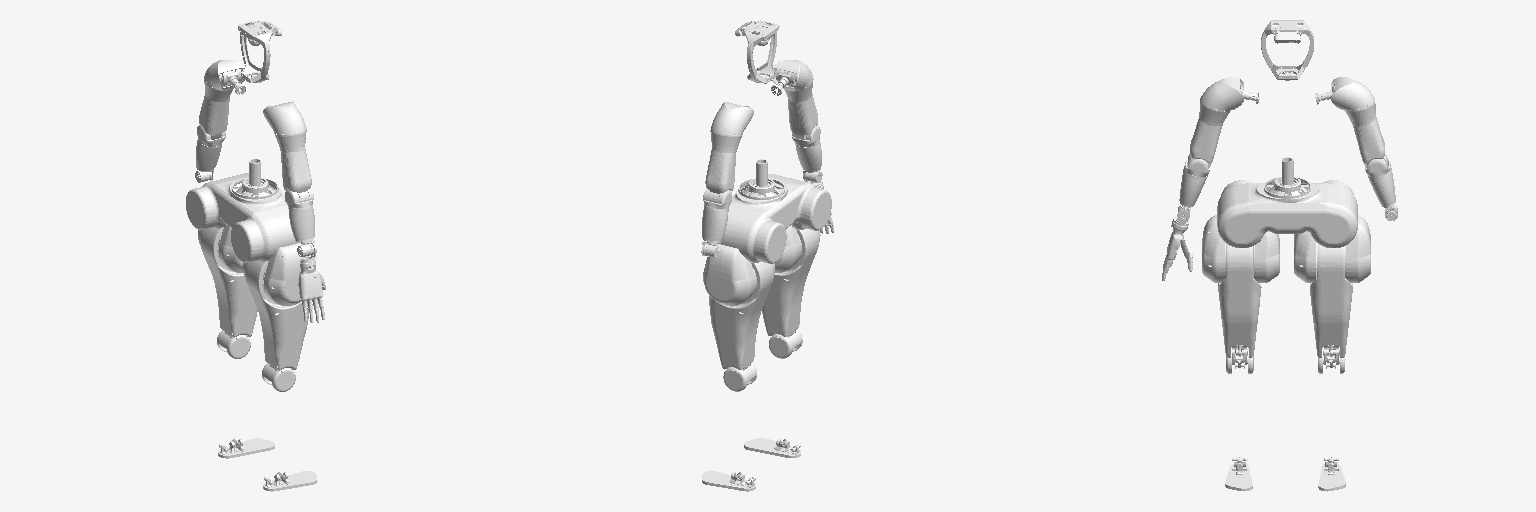
--- Facts derived from the render (not from the file) ---
Views: 3 orthographic renders of the robot side by side, from view 1: azimuth 30°, elevation 25°; view 2: azimuth 150°, elevation 25°; view 3: azimuth 270°, elevation 25°.
Robot: humanoid_legged_description — 32 links, 31 joints (12 revolute, 1 continuous, 18 fixed); root link dummy_link; default pose: all joints at 0.
Visible links, largest first — view 1: waist_yaw_link, leg_r3_link, leg_l3_link, leg_r2_link, arm_r2_link, head_yaw_link, arm_r6_link, arm_r3_link, arm_r5_link, arm_l2_link, arm_l3_link, arm_l5_link (+3 smaller); view 2: waist_yaw_link, leg_l3_link, leg_r3_link, leg_l2_link, arm_l2_link, head_yaw_link, arm_l3_link, arm_l5_link, arm_r2_link, arm_r3_link, arm_r5_link, leg_l6_link (+2 smaller); view 3: waist_yaw_link, leg_r3_link, leg_l3_link, leg_r2_link, leg_l2_link, head_yaw_link, arm_l2_link, arm_r2_link, arm_l3_link, arm_r3_link, arm_r6_link, arm_l5_link (+3 smaller).
Link boxes in pixels (x1=…): waist_yaw_link: x1=186, y1=159, x2=307, y2=262; leg_r3_link: x1=245, y1=261, x2=308, y2=391; leg_l3_link: x1=200, y1=227, x2=257, y2=358; leg_r2_link: x1=243, y1=243, x2=308, y2=305; arm_r2_link: x1=263, y1=101, x2=306, y2=152; head_yaw_link: x1=238, y1=21, x2=282, y2=82; arm_r6_link: x1=298, y1=244, x2=325, y2=322; arm_r3_link: x1=281, y1=149, x2=311, y2=202; arm_r5_link: x1=288, y1=204, x2=315, y2=257; arm_l2_link: x1=204, y1=60, x2=244, y2=101; arm_l3_link: x1=199, y1=94, x2=229, y2=139; arm_l5_link: x1=195, y1=140, x2=221, y2=182; waist_yaw_link: x1=709, y1=159, x2=831, y2=263; leg_l3_link: x1=709, y1=262, x2=773, y2=391; leg_r3_link: x1=762, y1=229, x2=818, y2=358; leg_l2_link: x1=703, y1=244, x2=774, y2=306; arm_l2_link: x1=710, y1=102, x2=753, y2=153; head_yaw_link: x1=735, y1=20, x2=779, y2=83; arm_l3_link: x1=705, y1=149, x2=735, y2=202; arm_l5_link: x1=701, y1=205, x2=728, y2=257; arm_r2_link: x1=772, y1=60, x2=813, y2=102; arm_r3_link: x1=788, y1=94, x2=817, y2=139; arm_r5_link: x1=795, y1=139, x2=822, y2=182; leg_l6_link: x1=702, y1=471, x2=755, y2=491; waist_yaw_link: x1=1217, y1=157, x2=1357, y2=247; leg_r3_link: x1=1218, y1=243, x2=1261, y2=373; leg_l3_link: x1=1310, y1=243, x2=1352, y2=373; leg_r2_link: x1=1202, y1=215, x2=1279, y2=282; leg_l2_link: x1=1294, y1=215, x2=1370, y2=282; head_yaw_link: x1=1261, y1=20, x2=1313, y2=80; arm_l2_link: x1=1331, y1=77, x2=1375, y2=125; arm_r2_link: x1=1199, y1=77, x2=1243, y2=126; arm_l3_link: x1=1353, y1=117, x2=1387, y2=167; arm_r3_link: x1=1188, y1=119, x2=1222, y2=167; arm_r6_link: x1=1162, y1=210, x2=1192, y2=280; arm_l5_link: x1=1368, y1=168, x2=1397, y2=220.
Size in the robot's own frame: 0.2929 by 0.7731 by 1.62 metres.
23 mesh visuals loaded from 27 distinct referenced files (23 binary STL); not drawn: 4 (reference not matched to a file when rendering).

The robot description file, URDF, robot "humanoid_legged_description":
<?xml version="1.0" encoding="utf-8"?>
<!-- This URDF was automatically created by SolidWorks to URDF Exporter! Originally created by Stephen Brawner ([email redacted]) 
     Commit Version: 1.6.0-4-g7f85cfe  Build Version: 1.6.7995.38578
     For more information, please see http://wiki.ros.org/sw_urdf_exporter -->
<robot
  name="humanoid_legged_description">
<mujoco>
      <compiler 
      meshdir="../meshes/" 
      balanceinertia="true" 
      discardvisual="false" />
  </mujoco>
  <link name="dummy_link">
    </link>
  <link
    name="base_link">
    <inertial>
      <origin
        xyz="0.001826 0.000075 -0.034596"
        rpy="0 0 0" />
      <mass
        value="11.000" />
      <inertia
        ixx="0.078100"
        ixy="-0.000010"
        ixz="0.000023"
        iyy="0.060343"
        iyz="0.000086"
        izz="0.041741" />
    </inertial>
    <visual>
      <origin
        xyz="0 0 0"
        rpy="0 0 0" />
      <geometry>
        <mesh
          filename="../meshes/base_link.STL" />
      </geometry>
      <material
        name="">
        <color
          rgba="1 1 1 1" />
      </material>
    </visual>
    <collision>
      <origin
        xyz="0 0. -0.1"
        rpy="0 0 0" />
      <geometry>
        <box size="0.2 0.3 0.3"/>
      </geometry>
    </collision>
  </link>
  <joint name="dummy_to_base_link" type="continuous">
    <parent link="dummy_link"/>
    <child link="base_link"/>
    <origin rpy="0 0 0" xyz="0 0 0"/>
  </joint>
  <link
    name="head_yaw_link">
    <inertial>
      <origin
        xyz="0.003429 -0.000100 0.134116"
        rpy="0 0 0" />
      <mass
        value="0.496681" />
      <inertia
        ixx="0.002367"
        ixy="0.000000"
        ixz="-0.000062"
        iyy="0.001968"
        iyz="0.000001"
        izz="0.000888" />
    </inertial>
    <visual>
      <origin
        xyz="0 0 0"
        rpy="0 0 0" />
      <geometry>
        <mesh
          filename="../meshes/head_yaw_link.STL" />
      </geometry>
      <material
        name="">
        <color
          rgba="1 1 1 1" />
      </material>
    </visual>
    <collision>
      <origin
        xyz="0 0. 0.1"
        rpy="0 0 0" />
      <geometry>
        <box size="0.1 0.2 0.2"/>
      </geometry>
    </collision>
  </link>
  <joint
    name="head_yaw_joint"
    type="fixed">
    <origin
      xyz="0 0 0.1395"
      rpy="0 0 0" />
    <parent
      link="base_link" />
    <child
      link="head_yaw_link" />
    <axis
      xyz="0 0 -1" />
    <limit
      lower="-1.5708"
      upper="1.5708"
      effort="9.0"
      velocity="12.0"/>
  </joint>
  <link
    name="waist_yaw_link">
    <inertial>
      <origin
        xyz="-0.036011 0.000003 -0.097626"
        rpy="0 0 0" />
      <mass
        value="8.000000" />
      <inertia
        ixx="0.112394"
        ixy="0.000005"
        ixz="-0.009290"
        iyy="0.042706"
        iyz="0.000000"
        izz="0.124727" />
    </inertial>
    <visual>
      <origin
        xyz="0 0 0"
        rpy="0 0 0" />
      <geometry>
        <mesh
          filename="../meshes/waist_yaw_link.STL" />
      </geometry>
      <material
        name="">
        <color
          rgba="1 1 1 1" />
      </material>
    </visual>
    <collision>
      <origin
        xyz="0 0. -0.115"
        rpy="0 0 0" />
      <geometry>
        <box size="0.2 0.39 0.1"/>
      </geometry>
    </collision>
  </link>
  <joint
    name="waist_yaw_joint"
    type="fixed">
    <origin
      xyz="0 0 -0.24015"
      rpy="0 0 0" />
    <parent
      link="base_link" />
    <child
      link="waist_yaw_link" />
    <axis
      xyz="0 0 1" />
    <limit
      lower="-1.5708"
      upper="1.5708"
      effort="150.0"
      velocity="12.0"/>
  </joint>
  <link
    name="leg_l1_link">
    <inertial>
      <origin
        xyz="-0.010461 0.000002 0.070710"
        rpy="0 0 0" />
      <mass
        value="1.900000" />
      <inertia
        ixx="0.002511"
        ixy="0.000000"
        ixz="0.000021"
        iyy="0.002615"
        iyz="0.000000"
        izz="0.001968" />
    </inertial>
    <visual>
      <origin
        xyz="0 0 0"
        rpy="0 0 0" />
      <geometry>
        <mesh
          filename="../meshes/leg_l1_link.STL" />
      </geometry>
      <material
        name="">
        <color
          rgba="1 1 1 1" />
      </material>
    </visual>
  </link>
  <joint
    name="leg_l1_joint"
    type="revolute">
    <origin
      xyz="-0.0718 0.14977 -0.12986"
      rpy="0 1.5708 0" />
    <parent
      link="waist_yaw_link" />
    <child
      link="leg_l1_link" />
    <axis
      xyz="0 0 1" />
    <limit
      lower="-0.2"
      upper="1.5708"
      effort="150.0"
      velocity="12.0"/>
  </joint>
  <link
    name="leg_l2_link">
    <inertial>
      <origin
        xyz="0.000523 -0.004435 -0.088977"
        rpy="0 0 0" />
      <mass
        value="1.529802" />
      <inertia
        ixx="0.014665"
        ixy="-0.000011"
        ixz="0.000049"
        iyy="0.007424"
        iyz="-0.000164"
        izz="0.010492" />
    </inertial>
    <visual>
      <origin
        xyz="0 0 0"
        rpy="0 0 0" />
      <geometry>
        <mesh
          filename="../meshes/leg_l2_link.STL" />
      </geometry>
      <material
        name="">
        <color
          rgba="1 1 1 1" />
      </material>
    </visual>
    <collision>
      <origin
        xyz="0 -0.0 -0.17"
        rpy="1.5708 0 0" />
      <geometry>
        <cylinder length="0.24" radius="0.08"/>
      </geometry>
    </collision>
  </link>
  <joint
    name="leg_l2_joint"
    type="revolute">
    <origin
      xyz="-0.028 0 0.0718"
      rpy="0 -1.5708 0" />
    <parent
      link="leg_l1_link" />
    <child
      link="leg_l2_link" />
    <axis
      xyz="0 0 -1" />
    <limit
      lower="-1.5708"
      upper="1.5708"
      effort="90.0"
      velocity="12.0"/>
  </joint>
  <link
    name="leg_l3_link">
    <inertial>
      <origin
        xyz="0.007346 -0.088900 0.080842"
        rpy="0 0 0" />
      <mass
        value="10.000000" />
      <inertia
        ixx="0.108180"
        ixy="0.003872"
        ixz="-0.000337"
        iyy="0.025767"
        iyz="0.004059"
        izz="0.105844" />
    </inertial>
    <visual>
      <origin
        xyz="0 0 0"
        rpy="0 0 0" />
      <geometry>
        <mesh
          filename="../meshes/leg_l3_link.STL" />
      </geometry>
      <material
        name="">
        <color
          rgba="1 1 1 1" />
      </material>
    </visual>
    <collision>
      <origin
        xyz="0.01 -0.2 0.09"
        rpy="0 0 0" />
      <geometry>
        <box size="0.1 0.2 0.1"/>
      </geometry>
    </collision>
  </link>
  <joint
    name="leg_l3_joint"
    type="revolute">
    <origin
      xyz="0 0.0823 -0.165"
      rpy="1.5708 0 0" />
    <parent
      link="leg_l2_link" />
    <child
      link="leg_l3_link" />
    <axis
      xyz="0 0 1" />
    <limit
      lower="-1.5708"
      upper="1.5708"
      effort="320.0"
      velocity="12.0"/>
  </joint>
  <link
    name="leg_l4_link">
    <inertial>
      <origin
        xyz="0.011156 -0.159931 0.014599"
        rpy="0 0 0" />
      <mass
        value="2.600000" />
      <inertia
        ixx="0.023687"
        ixy="-0.000544"
        ixz="0.000006"
        iyy="0.002330"
        iyz="0.000202"
        izz="0.023761" />
    </inertial>
    <visual>
      <origin
        xyz="0 0 0"
        rpy="0 0 0" />
      <geometry>
        <mesh
          filename="../meshes/leg_l4_link.STL" />
      </geometry>
      <material
        name="">
        <color
          rgba="1 1 1 1" />
      </material>
    </visual>
    <collision>
      <origin
        xyz="0 0 0.015"
        rpy="0 0 0" />
      <geometry>
        <cylinder length="0.09" radius="0.04"/>
      </geometry>
    </collision>
    <collision>
      <origin
        xyz="0.01 -0.185 0.01"
        rpy="0 0 0" />
      <geometry>
        <box size="0.1 0.28 0.08"/>
      </geometry>
    </collision>
  </link>
  <joint
    name="leg_l4_joint"
    type="revolute">
    <origin
      xyz="0 -0.38 0.0748"
      rpy="0 0 0" />
    <parent
      link="leg_l3_link" />
    <child
      link="leg_l4_link" />
    <axis
      xyz="0 0 -1" />
    <limit
      lower="0.0"
      upper="2.356"
      effort="320.0"
      velocity="12.0"/>
  </joint>
  <link
    name="leg_l5_link">
    <inertial>
      <origin
        xyz="0.000000 0.000000 0.011000"
        rpy="0 0 0" />
      <mass
        value="0.050922" />
      <inertia
        ixx="0.000006"
        ixy="0.000000"
        ixz="0.000000"
        iyy="0.000011"
        iyz="0.000000"
        izz="0.000006" />
    </inertial>
    <visual>
      <origin
        xyz="0 0 0"
        rpy="0 0 0" />
      <geometry>
        <mesh
          filename="../meshes/leg_l5_link.STL" />
      </geometry>
      <material
        name="">
        <color
          rgba="0.776470588235294 0.756862745098039 0.737254901960784 1" />
      </material>
    </visual>
  </link>
  <joint
    name="leg_l5_joint"
    type="revolute">
    <origin
      xyz="0.0098491 -0.37124 0.0035"
      rpy="0 0 0" />
    <parent
      link="leg_l4_link" />
    <child
      link="leg_l5_link" />
    <axis
      xyz="0 0 1" />
    <limit
      lower="-0.8"
      upper="0.8"
      effort="70.0"
      velocity="12.0"/>
  </joint>
  <link
    name="leg_l6_link">
    <inertial>
      <origin
        xyz="0.000593 -0.022279 0.030136"
        rpy="0 0 0" />
      <mass
        value="0.365700" />
      <inertia
        ixx="0.001040"
        ixy="0.000001"
        ixz="0.000004"
        iyy="0.001143"
        iyz="0.000054"
        izz="0.000169" />
    </inertial>
    <visual>
      <origin
        xyz="0 0 0"
        rpy="0 0 0" />
      <geometry>
        <mesh
          filename="../meshes/leg_l6_link.STL" />
      </geometry>
      <material
        name="">
        <color
          rgba="1 1 1 1" />
      </material>
    </visual>
    <collision>
      <origin
        xyz="0.0 -0.028 0.05"
        rpy="0 0 0" />
      <geometry>
        <box size="0.1 0.01 0.2"/>
      </geometry>
    </collision>
  </link>
  <joint
    name="leg_l6_joint"
    type="revolute">
    <origin
      xyz="-0.011 0 0.011"
      rpy="0 1.5708 0" />
    <parent
      link="leg_l5_link" />
    <child
      link="leg_l6_link" />
    <axis
      xyz="0 0 1" />
    <limit
      lower="-0.5236"
      upper="0.5236"
      effort="70.0"
      velocity="12.0"/>
  </joint>
  <link
    name="l_foot_toe">
  </link>
  <joint
    name="l_foot_toe_joint"
    type="fixed">
    <origin
      xyz="0 -0.033 0.1415"
      rpy="0 0 0" />
    <parent
      link="leg_l6_link" />
    <child
      link="l_foot_toe" />
  </joint>
  <link
    name="l_foot_heel">
  </link>
  <joint
    name="l_foot_heel_joint"
    type="fixed">
    <origin
      xyz="0 -0.033 -0.0445"
      rpy="0 0 0" />
    <parent
      link="leg_l6_link" />
    <child
      link="l_foot_heel" />
  </joint>
  <link
    name="leg_r1_link">
    <inertial>
      <origin
        xyz="-0.010461 0.000002 0.070710"
        rpy="0 0 0" />
      <mass
        value="1.900000" />
      <inertia
        ixx="0.002511"
        ixy="0.000000"
        ixz="0.000021"
        iyy="0.002615"
        iyz="0.000000"
        izz="0.001968" />
    </inertial>
    <visual>
      <origin
        xyz="0 0 0"
        rpy="0 0 0" />
      <geometry>
        <mesh
          filename="../meshes/leg_r1_link.STL" />
      </geometry>
      <material
        name="">
        <color
          rgba="1 1 1 1" />
      </material>
    </visual>
  </link>
  <joint
    name="leg_r1_joint"
    type="revolute">
    <origin
      xyz="-0.0718 -0.14977 -0.12986"
      rpy="0 1.5708 0" />
    <parent
      link="waist_yaw_link" />
    <child
      link="leg_r1_link" />
    <axis
      xyz="0 0 1" />
    <limit
      lower="-1.5708"
      upper="0.2"
      effort="150.0"
      velocity="12.0"/>
  </joint>
  <link
    name="leg_r2_link">
    <inertial>
      <origin
        xyz="0.000523 -0.004435 -0.088977"
        rpy="0 0 0" />
      <mass
        value="1.529802" />
      <inertia
        ixx="0.014665"
        ixy="-0.000011"
        ixz="0.000049"
        iyy="0.007424"
        iyz="-0.000164"
        izz="0.010492" />
    </inertial>
    <visual>
      <origin
        xyz="0 0 0"
        rpy="0 0 0" />
      <geometry>
        <mesh
          filename="../meshes/leg_r2_link.STL" />
      </geometry>
      <material
        name="">
        <color
          rgba="1 1 1 1" />
      </material>
    </visual>
    <collision>
      <origin
        xyz="0 -0.0 -0.17"
        rpy="1.5708 0 0" />
      <geometry>
        <cylinder length="0.24" radius="0.08"/>
      </geometry>
    </collision>
  </link>
  <joint
    name="leg_r2_joint"
    type="revolute">
    <origin
      xyz="-0.028 0 0.0718"
      rpy="0 -1.5708 0" />
    <parent
      link="leg_r1_link" />
    <child
      link="leg_r2_link" />
    <axis
      xyz="0 0 -1" />
    <limit
      lower="-1.5708"
      upper="1.5708"
      effort="90.0"
      velocity="12.0"/>
  </joint>
  <link
    name="leg_r3_link">
    <inertial>
      <origin
        xyz="0.007346 -0.088900 0.080842"
        rpy="0 0 0" />
      <mass
        value="10.000000" />
      <inertia
        ixx="0.108180"
        ixy="0.003872"
        ixz="-0.000337"
        iyy="0.025767"
        iyz="0.004059"
        izz="0.105844" />
    </inertial>
    <visual>
      <origin
        xyz="0 0 0"
        rpy="0 0 0" />
      <geometry>
        <mesh
          filename="../meshes/leg_r3_link.STL" />
      </geometry>
      <material
        name="">
        <color
          rgba="1 1 1 1" />
      </material>
    </visual>
    <collision>
      <origin
        xyz="0.01 -0.2 0.09"
        rpy="0 0 0" />
      <geometry>
        <box size="0.1 0.2 0.1"/>
      </geometry>
    </collision>
  </link>
  <joint
    name="leg_r3_joint"
    type="revolute">
    <origin
      xyz="0 0.0823 -0.165"
      rpy="1.5708 0 0" />
    <parent
      link="leg_r2_link" />
    <child
      link="leg_r3_link" />
    <axis
      xyz="0 0 1" />
    <limit
      lower="-1.5708"
      upper="1.5708"
      effort="320.0"
      velocity="12.0"/>
  </joint>
  <link
    name="leg_r4_link">
    <inertial>
      <origin
        xyz="0.011156 -0.159931 0.014599"
        rpy="0 0 0" />
      <mass
        value="2.600000" />
      <inertia
        ixx="0.023687"
        ixy="-0.000544"
        ixz="0.000006"
        iyy="0.002330"
        iyz="0.000202"
        izz="0.023761" />
    </inertial>
    <visual>
      <origin
        xyz="0 0 0"
        rpy="0 0 0" />
      <geometry>
        <mesh
          filename="../meshes/leg_r4_link.STL" />
      </geometry>
      <material
        name="">
        <color
          rgba="1 1 1 1" />
      </material>
    </visual>
    <collision>
      <origin
        xyz="0 0 0.015"
        rpy="0 0 0" />
      <geometry>
        <cylinder length="0.09" radius="0.04"/>
      </geometry>
    </collision>
    <collision>
      <origin
        xyz="0.01 -0.185 0.01"
        rpy="0 0 0" />
      <geometry>
        <box size="0.1 0.28 0.08"/>
      </geometry>
    </collision>
  </link>
  <joint
    name="leg_r4_joint"
    type="revolute">
    <origin
      xyz="0 -0.38 0.0748"
      rpy="0 0 0" />
    <parent
      link="leg_r3_link" />
    <child
      link="leg_r4_link" />
    <axis
      xyz="0 0 -1" />
    <limit
      lower="0.0"
      upper="2.356"
      effort="320.0"
      velocity="12.0"/>
  </joint>
  <link
    name="leg_r5_link">
    <inertial>
      <origin
        xyz="0.000000 0.000000 0.011000"
        rpy="0 0 0" />
      <mass
        value="0.050922" />
      <inertia
        ixx="0.000006"
        ixy="0.000000"
        ixz="0.000000"
        iyy="0.000011"
        iyz="0.000000"
        izz="0.000006" />
    </inertial>
    <visual>
      <origin
        xyz="0 0 0"
        rpy="0 0 0" />
      <geometry>
        <mesh
          filename="../meshes/leg_r5_link.STL" />
      </geometry>
      <material
        name="">
        <color
          rgba="0.776470588235294 0.756862745098039 0.737254901960784 1" />
      </material>
    </visual>
  </link>
  <joint
    name="leg_r5_joint"
    type="revolute">
    <origin
      xyz="0.0098491 -0.37124 0.0035"
      rpy="0 0 0" />
    <parent
      link="leg_r4_link" />
    <child
      link="leg_r5_link" />
    <axis
      xyz="0 0 1" />
    <limit
      lower="-0.8"
      upper="0.8"
      effort="70.0"
      velocity="12.0"/>
  </joint>
  <link
    name="leg_r6_link">
    <inertial>
      <origin
        xyz="-0.000603 -0.022372 0.031400"
        rpy="0 0 0" />
      <mass
        value="0.373459" />
      <inertia
        ixx="0.001074"
        ixy="-0.000001"
        ixz="-0.000005"
        iyy="0.001179"
        iyz="0.000056"
        izz="0.000173" />
    </inertial>
    <visual>
      <origin
        xyz="0 0 0"
        rpy="0 0 0" />
      <geometry>
        <mesh
          filename="../meshes/leg_r6_link.STL" />
      </geometry>
      <material
        name="">
        <color
          rgba="1 1 1 1" />
      </material>
    </visual>
    <collision>
      <origin
        xyz="0.0 -0.028 0.05"
        rpy="0 0 0" />
      <geometry>
        <box size="0.1 0.01 0.2"/>
      </geometry>
    </collision>
  </link>
  <joint
    name="leg_r6_joint"
    type="revolute">
    <origin
      xyz="-0.011 0 0.011"
      rpy="0 1.5708 0" />
    <parent
      link="leg_r5_link" />
    <child
      link="leg_r6_link" />
    <axis
      xyz="0 0 1" />
    <limit
      lower="-0.5236"
      upper="0.5236"
      effort="70.0"
      velocity="12.0"/>
  </joint>
  <link
    name="r_foot_toe">
  </link>
  <joint
    name="r_foot_toe_joint"
    type="fixed">
    <origin
      xyz="0 -0.033 0.1415"
      rpy="0 0 0" />
    <parent
      link="leg_r6_link" />
    <child
      link="r_foot_toe" />
  </joint>
  <link
    name="r_foot_heel">
  </link>
  <joint
    name="r_foot_heel_joint"
    type="fixed">
    <origin
      xyz="0 -0.033 -0.0445"
      rpy="0 0 0" />
    <parent
      link="leg_r6_link" />
    <child
      link="r_foot_heel" />
  </joint>
  <link
    name="arm_l1_link">
    <inertial>
      <origin
        xyz="0.005516 -0.000005 -0.082177"
        rpy="0 0 0" />
      <mass
        value="0.565198" />
      <inertia
        ixx="0.000328"
        ixy="0.000000"
        ixz="0.000023"
        iyy="0.000409"
        iyz="0.000000"
        izz="0.000195" />
    </inertial>
    <visual>
      <origin
        xyz="0 0 0"
        rpy="0 0 0" />
      <geometry>
        <mesh
          filename="../meshes/arm_l1_link.STL" />
      </geometry>
      <material
        name="">
        <color
          rgba="1 1 1 1" />
      </material>
    </visual>
  </link>
  <joint
    name="arm_l1_joint"
    type="fixed">
    <origin
      xyz="0 0.095627 0.05921"
      rpy="1.8326 0 0" />
    <parent
      link="base_link" />
    <child
      link="arm_l1_link" />
    <axis
      xyz="0 0 1" />
    <limit
      lower="-3.1416"
      upper="3.1416"
      effort="36.0"
      velocity="12.0"/>
  </joint>
  <link
    name="arm_l2_link">
    <inertial>
      <origin
        xyz="0.047703 -0.049028 -0.033173"
        rpy="0 0 0" />
      <mass
        value="0.850000" />
      <inertia
        ixx="0.001324"
        ixy="0.000456"
        ixz="0.000111"
        iyy="0.001035"
        iyz="-0.000114"
        izz="0.001518" />
    </inertial>
    <visual>
      <origin
        xyz="0 0 0"
        rpy="0 0 0" />
      <geometry>
        <mesh
          filename="../meshes/arm_l2_link.STL" />
      </geometry>
      <material
        name="">
        <color
          rgba="1 1 1 1" />
      </material>
    </visual>
  </link>
  <joint
    name="arm_l2_joint"
    type="fixed">
    <origin
      xyz="0.036 0 -0.0895"
      rpy="-1.5708 1.309 -1.5708" />
    <parent
      link="arm_l1_link" />
    <child
      link="arm_l2_link" />
    <axis
      xyz="0 0 1" />
    <limit
      lower="-0.4"
      upper="1.5708"
      effort="36.0"
      velocity="12.0"/>
  </joint>
  <link
    name="arm_l3_link">
    <inertial>
      <origin
        xyz="-0.002795 0.001837 -0.140170"
        rpy="0 0 0" />
      <mass
        value="0.700000" />
      <inertia
        ixx="0.002554"
        ixy="-0.000003"
        ixz="-0.000073"
        iyy="0.002531"
        iyz="-0.000030"
        izz="0.000299" />
    </inertial>
    <visual>
      <origin
        xyz="0 0 0"
        rpy="0 0 0" />
      <geometry>
        <mesh
          filename="../meshes/arm_l3_link.STL" />
      </geometry>
      <material
        name="">
        <color
          rgba="1 1 1 1" />
      </material>
    </visual>
    <collision>
      <origin
        xyz="0 -0.0 -0.01"
        rpy="0 0 0" />
      <geometry>
        <cylinder length="0.16" radius="0.04"/>
      </geometry>
    </collision>
  </link>
  <joint
    name="arm_l3_joint"
    type="fixed">
    <origin
      xyz="0.064778 -0.087206 -0.036"
      rpy="-1.8326 1.5708 0" />
    <parent
      link="arm_l2_link" />
    <child
      link="arm_l3_link" />
    <axis
      xyz="0 0 -1" />
    <limit
      lower="-2.0"
      upper="2.0"
      effort="36.0"
      velocity="12.0"/>
  </joint>
  <link
    name="arm_l4_link">
    <inertial>
      <origin
        xyz="0.000180 -0.053916 -0.031361"
        rpy="0 0 0" />
      <mass
        value="0.443929" />
      <inertia
        ixx="0.000385"
        ixy="-0.000004"
        ixz="0.000000"
        iyy="0.000206"
        iyz="0.000037"
        izz="0.000351" />
    </inertial>
    <visual>
      <origin
        xyz="0 0 0"
        rpy="0 0 0" />
      <geometry>
        <mesh
          filename="../meshes/arm_l4_link.STL" />
      </geometry>
      <material
        name="">
        <color
          rgba="1 1 1 1" />
      </material>
    </visual>
  </link>
  <joint
    name="arm_l4_joint"
    type="fixed">
    <origin
      xyz="0.028 0 -0.1785"
      rpy="1.5708 0 1.5708" />
    <parent
      link="arm_l3_link" />
    <child
      link="arm_l4_link" />
    <axis
      xyz="0 0 -1" />
    <limit
      lower="-2.4"
      upper="0.0"
      effort="36.0"
      velocity="12.0"/>
  </joint>
  <link
    name="arm_l5_link">
    <inertial>
      <origin
        xyz="0.000305 -0.000001 0.038807"
        rpy="0 0 0" />
      <mass
        value="0.250000" />
      <inertia
        ixx="0.000535"
        ixy="0.000000"
        ixz="-0.000002"
        iyy="0.000553"
        iyz="0.000000"
        izz="0.000125" />
    </inertial>
    <visual>
      <origin
        xyz="0 0 0"
        rpy="0 0 0" />
      <geometry>
        <mesh
          filename="../meshes/arm_l5_link.STL" />
      </geometry>
      <material
        name="">
        <color
          rgba="1 1 1 1" />
      </material>
    </visual>
    <collision>
      <origin
        xyz="0 -0.0 0.0"
        rpy="0 0 0" />
      <geometry>
        <cylinder length="0.1" radius="0.04"/>
      </geometry>
    </collision>
  </link>
  <joint
    name="arm_l5_joint"
    type="fixed">
    <origin
      xyz="0 -0.0835 -0.028"
      rpy="1.5708 1.5708 0" />
    <parent
      link="arm_l4_link" />
    <child
      link="arm_l5_link" />
    <axis
      xyz="0 0 1" />
    <limit
      lower="-2.0"
      upper="2.0"
      effort="9.0"
      velocity="12.0"/>
  </joint>
  <link
    name="arm_l6_link">
    <inertial>
      <origin
        xyz="-0.106749 0.002487 -0.021890"
        rpy="0 0 0" />
      <mass
        value="0.600000" />
      <inertia
        ixx="0.000513"
        ixy="-0.000009"
        ixz="0.000010"
        iyy="0.001658"
        iyz="-0.000095"
        izz="0.001369" />
    </inertial>
    <visual>
      <origin
        xyz="0 0 0"
        rpy="0 0 0" />
      <geometry>
        <mesh
          filename="../meshes/arm_l6_link.STL" />
      </geometry>
      <material
        name="">
        <color
          rgba="0.792156862745098 0.819607843137255 0.933333333333333 1" />
      </material>
    </visual>
  </link>
  <joint
    name="arm_l6_joint"
    type="fixed">
    <origin
      xyz="0.0245 0 0.0975"
      rpy="0 1.5708 0" />
    <parent
      link="arm_l5_link" />
    <child
      link="arm_l6_link" />
    <axis
      xyz="0 0 -1" />
    <limit
      lower="-1.5708"
      upper="1.5708"
      effort="9.0"
      velocity="12.0"/>
  </joint>
  <link
    name="arm_r1_link">
    <inertial>
      <origin
        xyz="0.005516 0.000005 0.082177"
        rpy="0 0 0" />
      <mass
        value="0.565198" />
      <inertia
        ixx="0.000328"
        ixy="0.000000"
        ixz="-0.000023"
        iyy="0.000409"
        iyz="0.000000"
        izz="0.000195" />
    </inertial>
    <visual>
      <origin
        xyz="0 0 0"
        rpy="0 0 0" />
      <geometry>
        <mesh
          filename="../meshes/arm_r1_link.STL" />
      </geometry>
      <material
        name="">
        <color
          rgba="1 1 1 1" />
      </material>
    </visual>
  </link>
  <joint
    name="arm_r1_joint"
    type="fixed">
    <origin
      xyz="0 -0.095623 0.05921"
      rpy="1.309 0 0" />
    <parent
      link="base_link" />
    <child
      link="arm_r1_link" />
    <axis
      xyz="0 0 -1" />
    <limit
      lower="-3.1416"
      upper="3.1416"
      effort="36.0"
      velocity="12.0"/>
  </joint>
  <link
    name="arm_r2_link">
    <inertial>
      <origin
        xyz="-0.047703 -0.049028 -0.038827"
        rpy="0 0 0" />
      <mass
        value="0.850000" />
      <inertia
        ixx="0.001324"
        ixy="-0.000456"
        ixz="0.000111"
        iyy="0.001035"
        iyz="0.000114"
        izz="0.001518" />
    </inertial>
    <visual>
      <origin
        xyz="0 0 0"
        rpy="0 0 0" />
      <geometry>
        <mesh
          filename="../meshes/arm_r2_link.STL" />
      </geometry>
      <material
        name="">
        <color
          rgba="1 1 1 1" />
      </material>
    </visual>
  </link>
  <joint
    name="arm_r2_joint"
    type="fixed">
    <origin
      xyz="0.036 0 0.0895"
      rpy="1.5708 1.309 1.5708" />
    <parent
      link="arm_r1_link" />
    <child
      link="arm_r2_link" />
    <axis
      xyz="0 0 1" />
    <limit
      lower="-1.5708"
      upper="0.4"
      effort="36.0"
      velocity="12.0"/>
  </joint>
  <link
    name="arm_r3_link">
    <inertial>
      <origin
        xyz="0.002795 -0.001837 -0.140170"
        rpy="0 0 0" />
      <mass
        value="0.700000" />
      <inertia
        ixx="0.002554"
        ixy="-0.000003"
        ixz="0.000073"
        iyy="0.002531"
        iyz="0.000030"
        izz="0.000299" />
    </inertial>
    <visual>
      <origin
        xyz="0 0 0"
        rpy="0 0 0" />
      <geometry>
        <mesh
          filename="../meshes/arm_r3_link.STL" />
      </geometry>
      <material
        name="">
        <color
          rgba="1 1 1 1" />
      </material>
    </visual>
    <collision>
      <origin
        xyz="0 -0.0 -0.01"
        rpy="0 0 0" />
      <geometry>
        <cylinder length="0.16" radius="0.04"/>
      </geometry>
    </collision>
  </link>
  <joint
    name="arm_r3_joint"
    type="fixed">
    <origin
      xyz="-0.064778 -0.087206 -0.036"
      rpy="-1.309 1.5708 0" />
    <parent
      link="arm_r2_link" />
    <child
      link="arm_r3_link" />
    <axis
      xyz="0 0 -1" />
    <limit
      lower="-2.0"
      upper="2.0"
      effort="36.0"
      velocity="12.0"/>
  </joint>
  <link
    name="arm_r4_link">
    <inertial>
      <origin
        xyz="-0.000180 -0.053916 -0.024639"
        rpy="0 0 0" />
      <mass
        value="0.443929" />
      <inertia
        ixx="0.000385"
        ixy="0.000004"
        ixz="0.000000"
        iyy="0.000206"
        iyz="-0.000037"
        izz="0.000351" />
    </inertial>
    <visual>
      <origin
        xyz="0 0 0"
        rpy="0 0 0" />
      <geometry>
        <mesh
          filename="../meshes/arm_r4_link.STL" />
      </geometry>
      <material
        name="">
        <color
          rgba="1 1 1 1" />
      </material>
    </visual>
  </link>
  <joint
    name="arm_r4_joint"
    type="fixed">
    <origin
      xyz="0.028 0 -0.1785"
      rpy="1.5708 0 1.5708" />
    <parent
      link="arm_r3_link" />
    <child
      link="arm_r4_link" />
    <axis
      xyz="0 0 1" />
    <limit
      lower="-2.4"
      upper="0.0"
      effort="36.0"
      velocity="12.0"/>
  </joint>
  <link
    name="arm_r5_link">
    <inertial>
      <origin
        xyz="0.000305 -0.000001 0.038807"
        rpy="0 0 0" />
      <mass
        value="0.250000" />
      <inertia
        ixx="0.000535"
        ixy="0.000000"
        ixz="-0.000002"
        iyy="0.000553"
        iyz="0.000000"
        izz="0.000125" />
    </inertial>
    <visual>
      <origin
        xyz="0 0 0"
        rpy="0 0 0" />
      <geometry>
        <mesh
          filename="../meshes/arm_r5_link.STL" />
      </geometry>
      <material
        name="">
        <color
          rgba="1 1 1 1" />
      </material>
    </visual>
    <collision>
      <origin
        xyz="0 -0.0 0.0"
        rpy="0 0 0" />
      <geometry>
        <cylinder length="0.1" radius="0.04"/>
      </geometry>
    </collision>
  </link>
  <joint
    name="arm_r5_joint"
    type="fixed">
    <origin
      xyz="0 -0.0835 -0.028"
      rpy="1.5708 1.5708 0" />
    <parent
      link="arm_r4_link" />
    <child
      link="arm_r5_link" />
    <axis
      xyz="0 0 1" />
    <limit
      lower="-2.0"
      upper="2.0"
      effort="9.0"
      velocity="12.0"/>
  </joint>
  <link
    name="arm_r6_link">
    <inertial>
      <origin
        xyz="-0.113518 -0.002707 -0.022863"
        rpy="0 0 0" />
      <mass
        value="0.600000" />
      <inertia
        ixx="0.000275"
        ixy="0.000013"
        ixz="-0.000010"
        iyy="0.000980"
        iyz="0.000057"
        izz="0.000856" />
    </inertial>
    <visual>
      <origin
        xyz="0 0 0"
        rpy="0 0 0" />
      <geometry>
        <mesh
          filename="../meshes/arm_r6_link.STL" />
      </geometry>
      <material
        name="">
        <color
          rgba="1 1 1 1" />
      </material>
    </visual>
  </link>
  <joint
    name="arm_r6_joint"
    type="fixed">
    <origin
      xyz="0.0245 0 0.0975"
      rpy="0 1.5708 0" />
    <parent
      link="arm_r5_link" />
    <child
      link="arm_r6_link" />
    <axis
      xyz="0 0 -1" />
    <limit
      lower="-1.5708"
      upper="1.5708"
      effort="9.0"
      velocity="12.0"/>
  </joint>
</robot>
